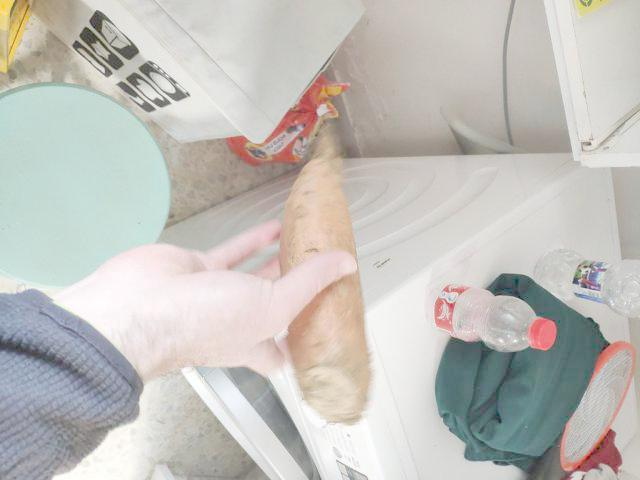sweet_potato: (283, 159, 347, 384)
